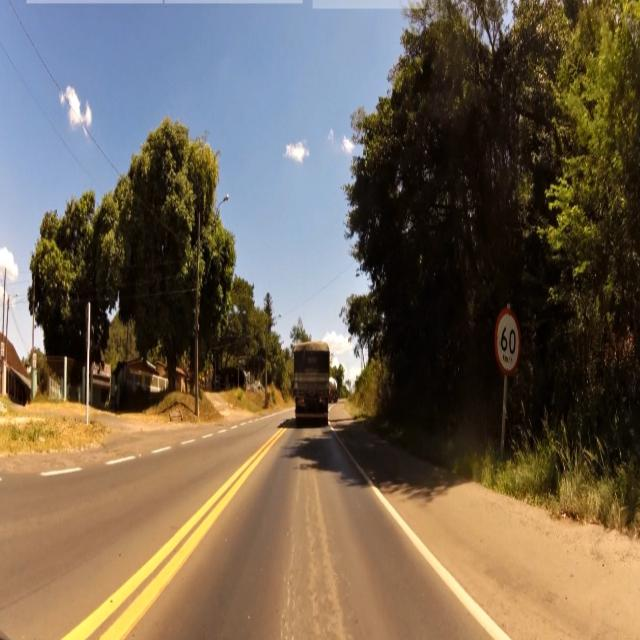R-19: (494, 310, 522, 374)
